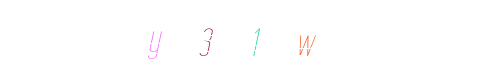1: (216, 0, 296, 80)
3: (205, 0, 285, 80)
W: (231, 0, 311, 80)
Y: (164, 0, 244, 80)
